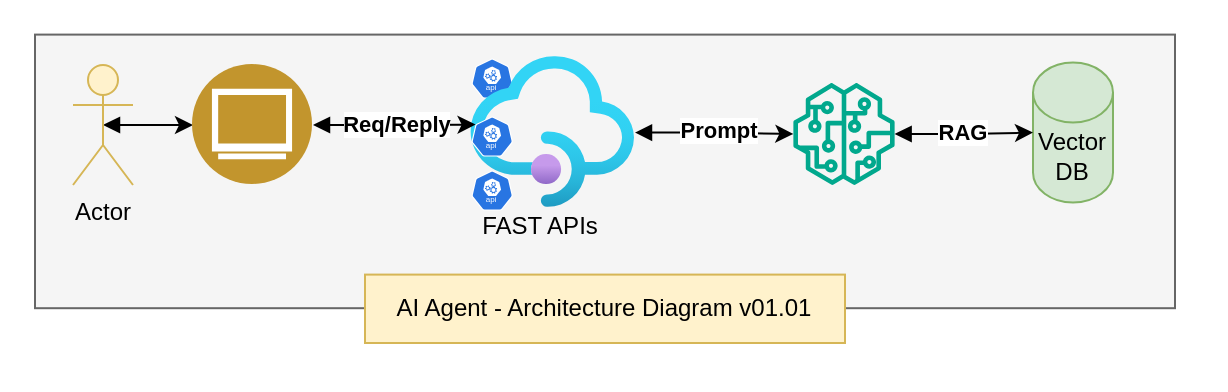
This 1228x392 diagram has some shape labels left out. The centre of each missing label's shape, as x and y in pixels:
"LLM" goes at point (843, 133).
"Streamlit UI" goes at point (252, 124).
